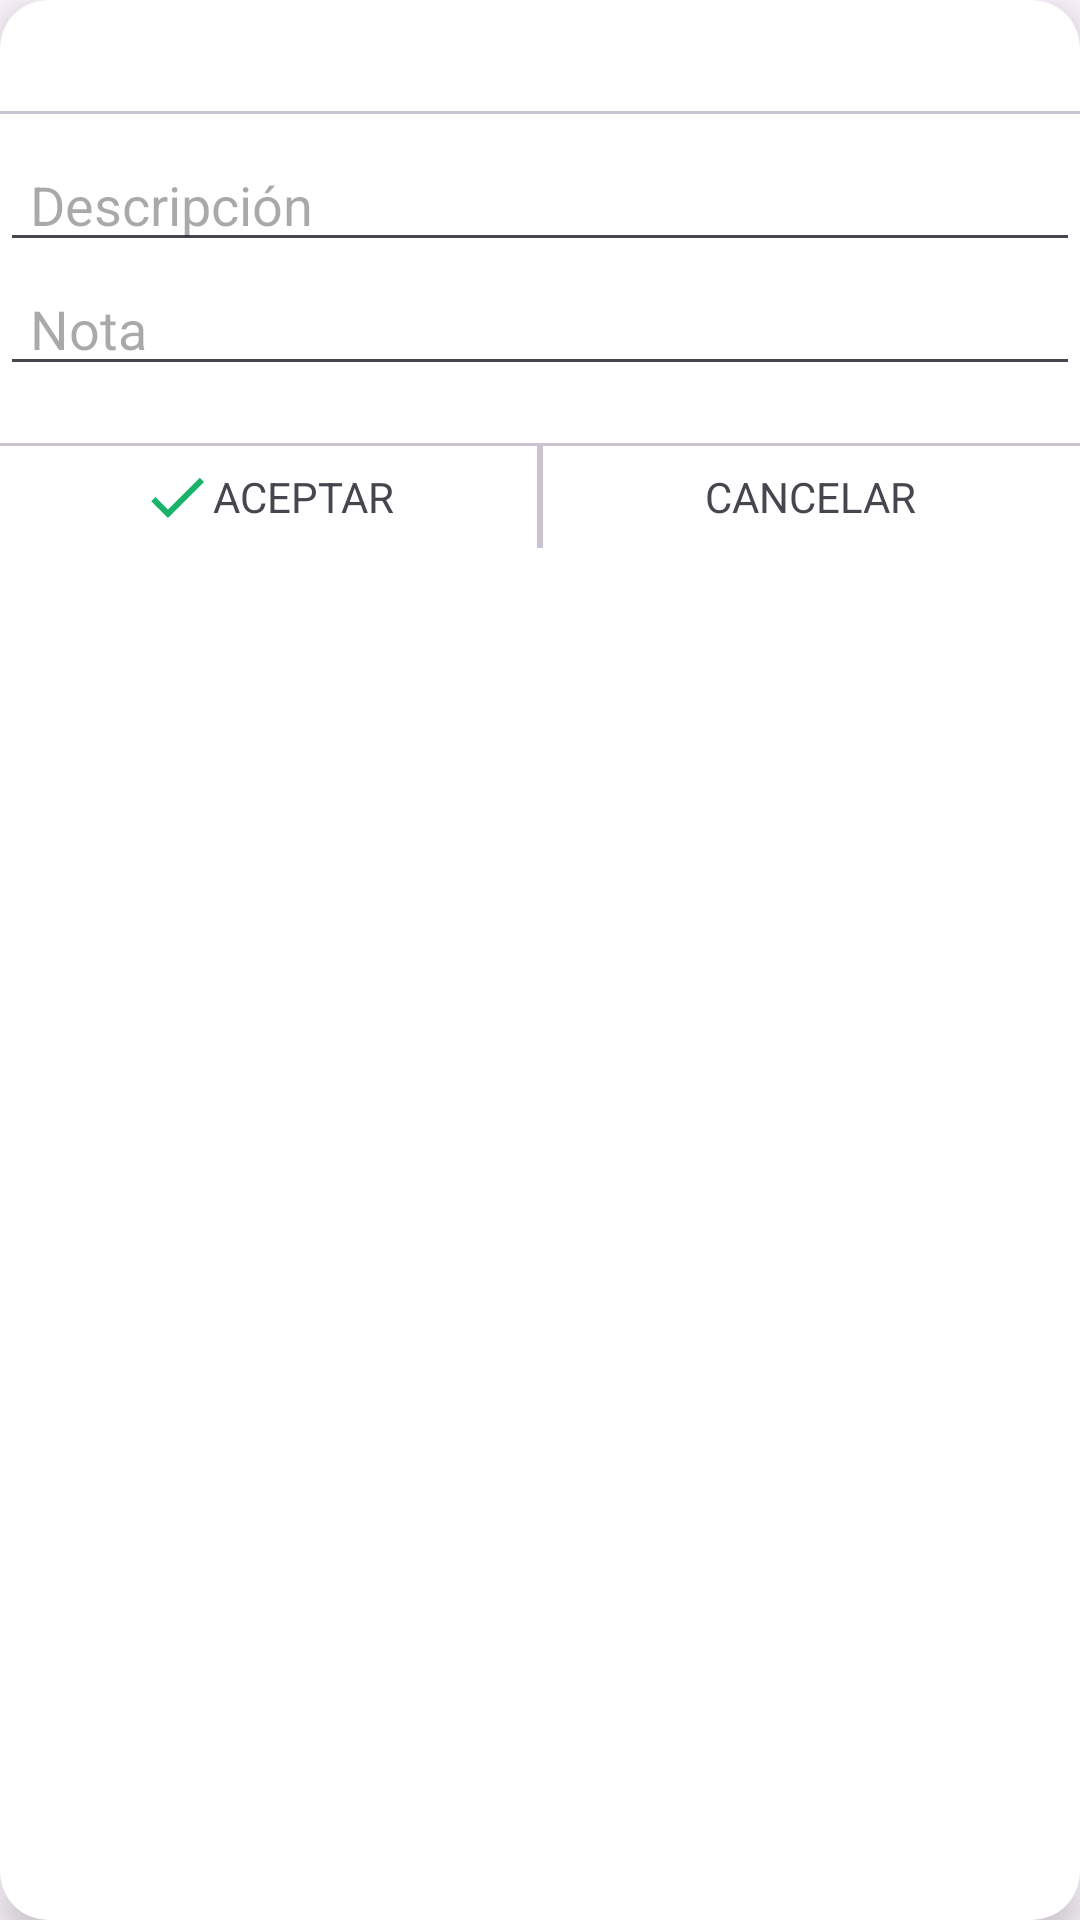

Where to tap for icons on this 1080×1920 app screen, as (x=x, y=y):
check: (x=177, y=498)
